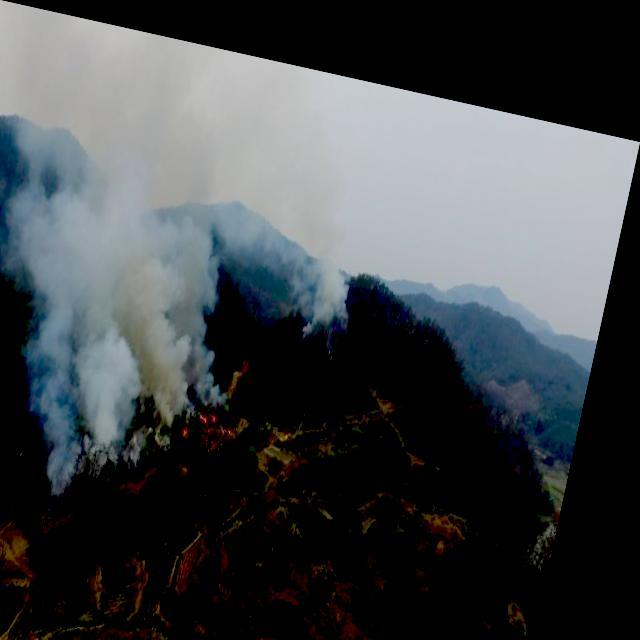Fire: (136, 322, 285, 492)
